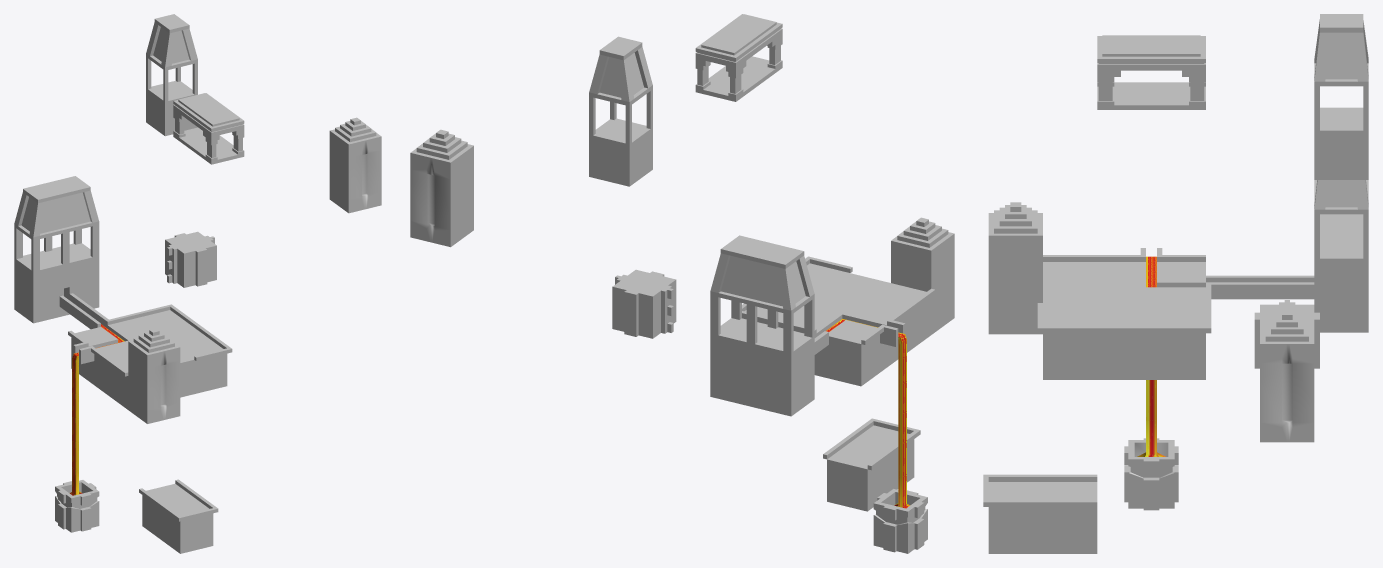
The model's file is Going_Under_env.fbx.
The picture shows the model from 3 angles, left to right: view 1: azimuth 30°, elevation 25°; view 2: azimuth 150°, elevation 25°; view 3: azimuth 270°, elevation 25°; orthographic projection. The views are drawn at different scales.
Parts seen in each view (by area): view 1: GoingUnder_env, lava_fall; view 2: GoingUnder_env, lava_fall; view 3: GoingUnder_env, lava_fall.
Part boxes in pixels (left/top/right/bottom): GoingUnder_env: left=14, top=14, right=381, bottom=553; lava_fall: left=69, top=324, right=124, bottom=495; GoingUnder_env: left=410, top=14, right=954, bottom=553; lava_fall: left=826, top=319, right=909, bottom=508; GoingUnder_env: left=983, top=14, right=1368, bottom=553; lava_fall: left=1137, top=256, right=1165, bottom=456.
Size of the model in its own units: 109 by 120 by 71.
